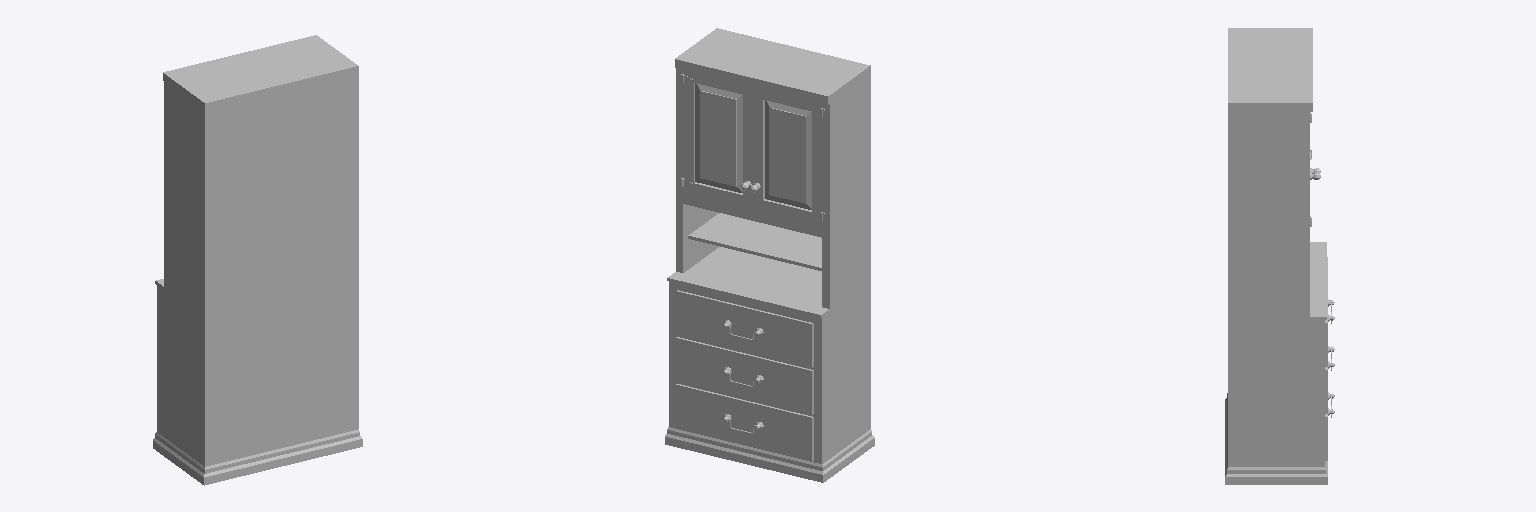
Rendered from cabinet.obj.
The picture shows the model from 3 angles: view 1: azimuth 30°, elevation 25°; view 2: azimuth 150°, elevation 25°; view 3: azimuth 270°, elevation 25°; orthographic projection.
Parts seen in each view (by area): view 1: cabinet_cabinet_Plane.012; view 2: cabinet_cabinet_Plane.012; view 3: cabinet_cabinet_Plane.012.
Boxes of the visible parts, x1,y1,x2,y2 form: cabinet_cabinet_Plane.012: [153, 35, 362, 485]; cabinet_cabinet_Plane.012: [665, 28, 874, 482]; cabinet_cabinet_Plane.012: [1225, 28, 1334, 484].
Size of the model in its own units: 4.71 by 10.78 by 2.81.